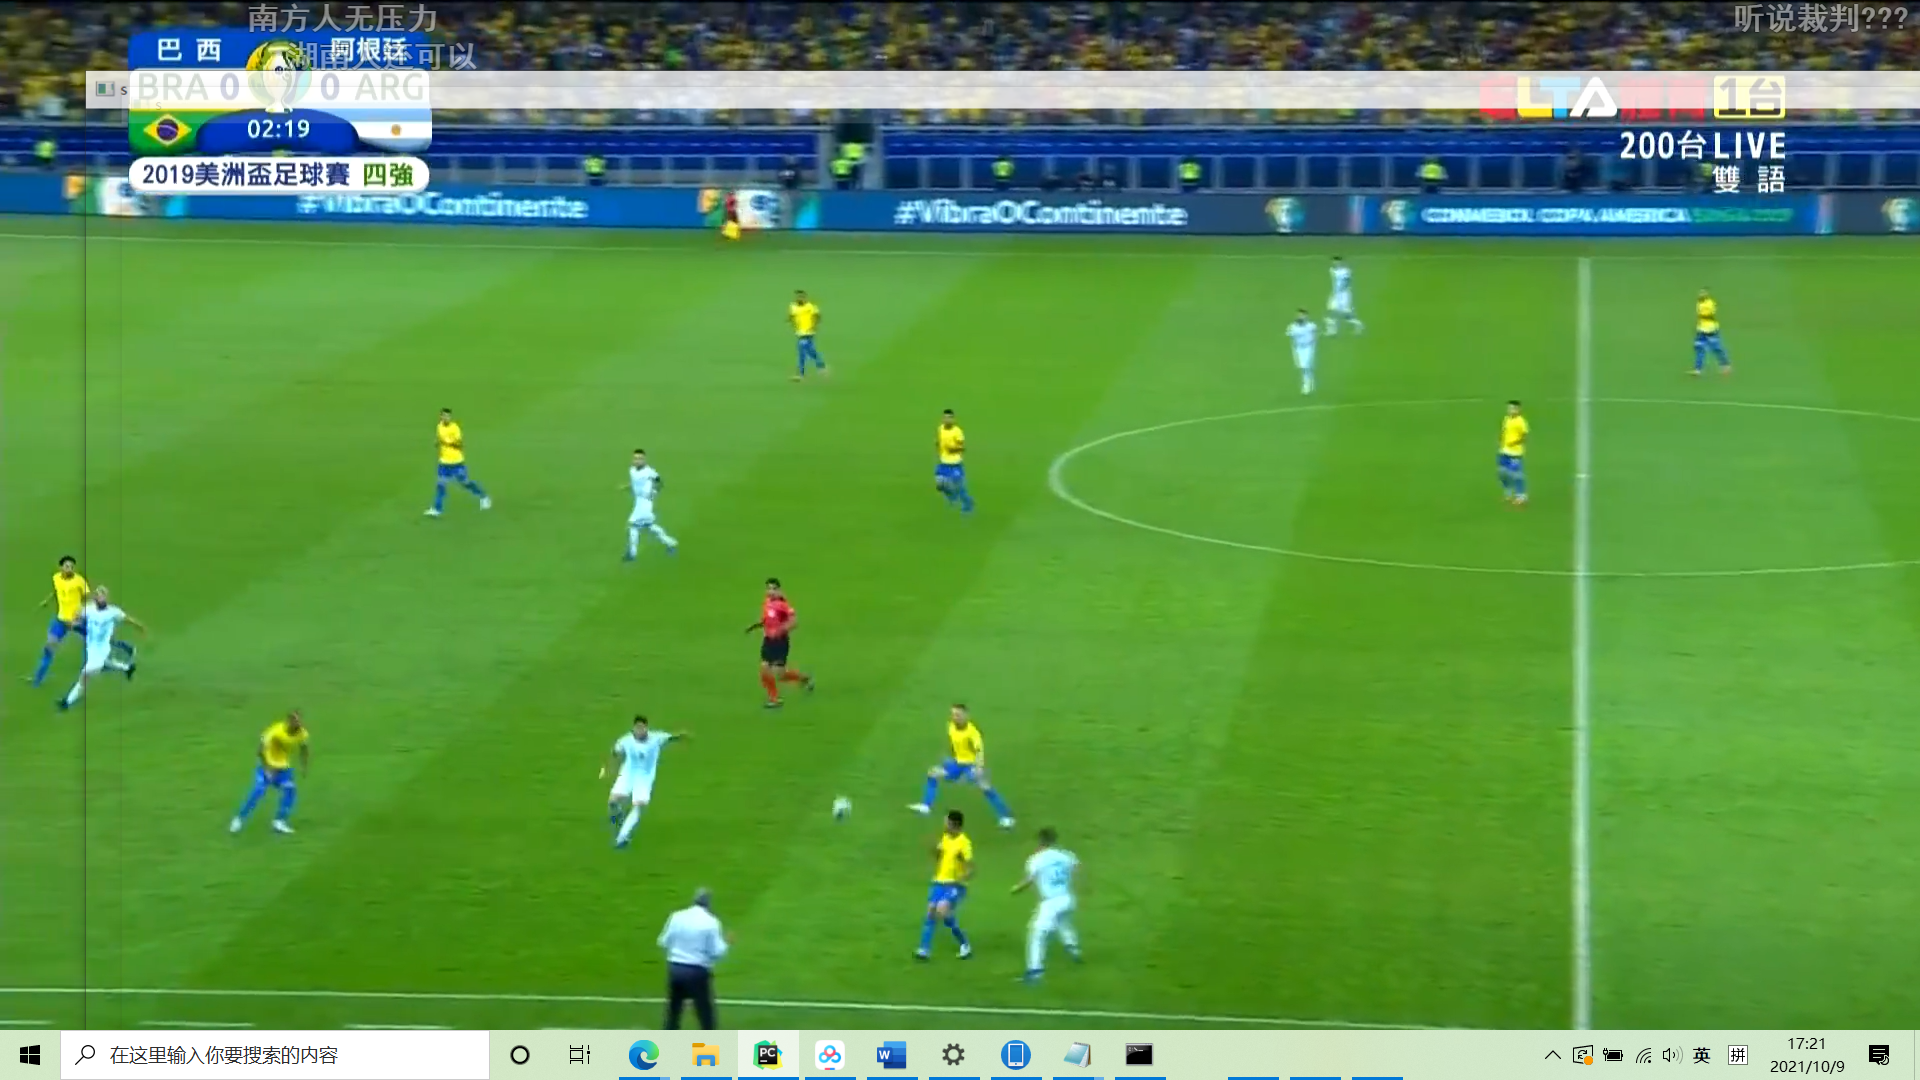ft: (829, 794, 855, 822)
